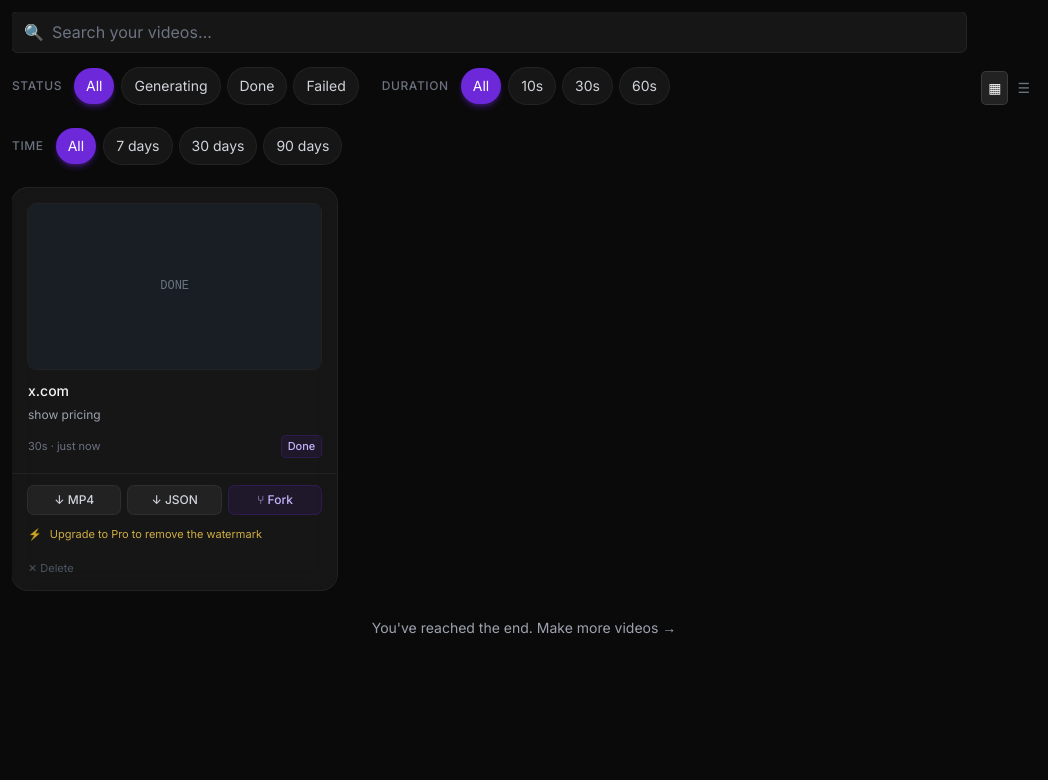
Scenario: HistoryGrid — delete › keeps card in state when delete fails
Expected: the text "x.com" is shown, [28,382,69,399]
Click the button with aria-label "delete this job" at (51, 569), box [28,560,74,577]
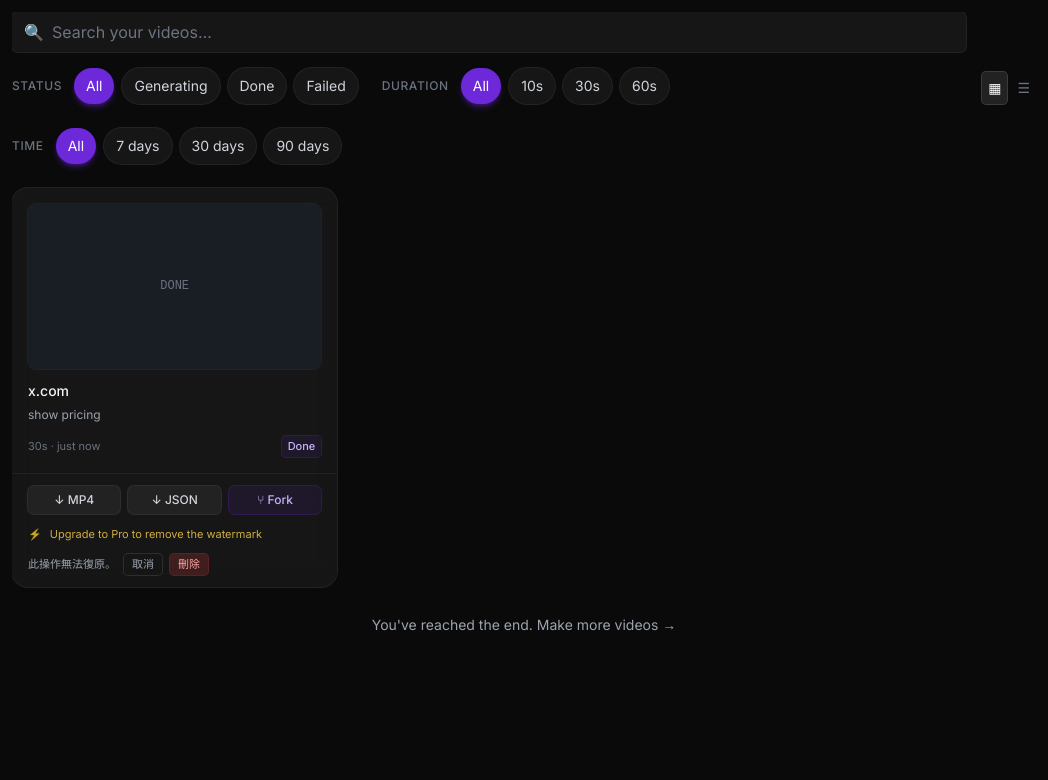
Click the button "刪除" at (189, 565), box [170,554,208,575]
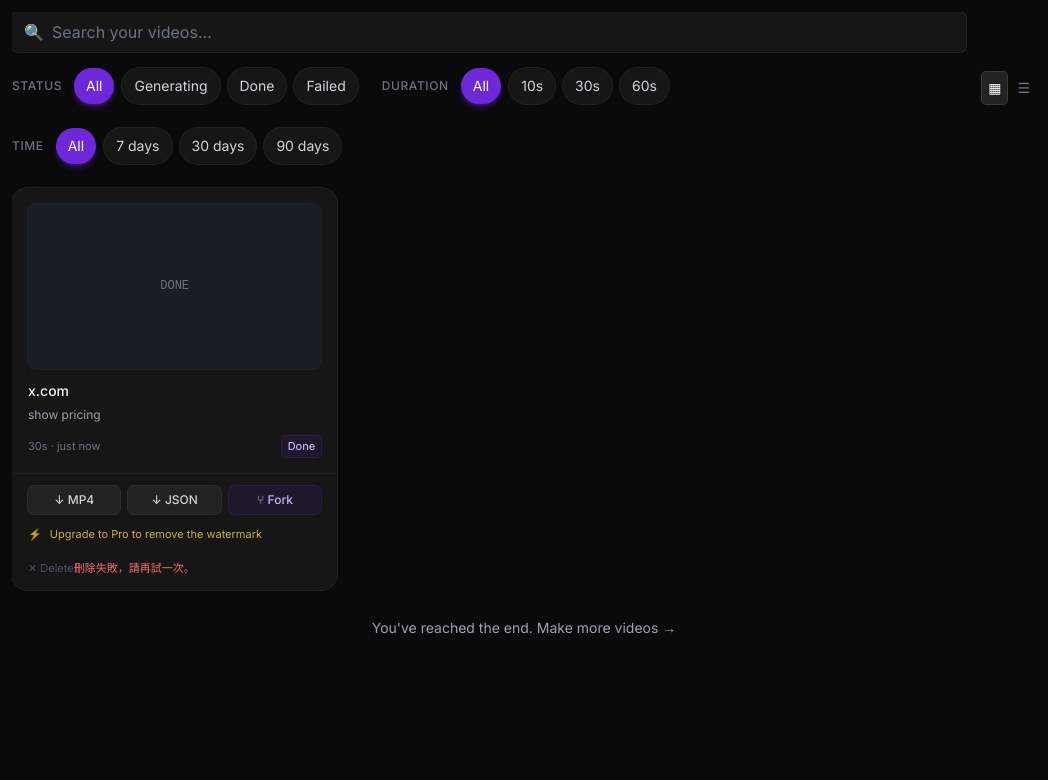
Expected: the text "x.com" is shown, [28,382,69,399]
Now the text "刪除失敗，請再試一次。" is shown, box [74,562,195,576]
